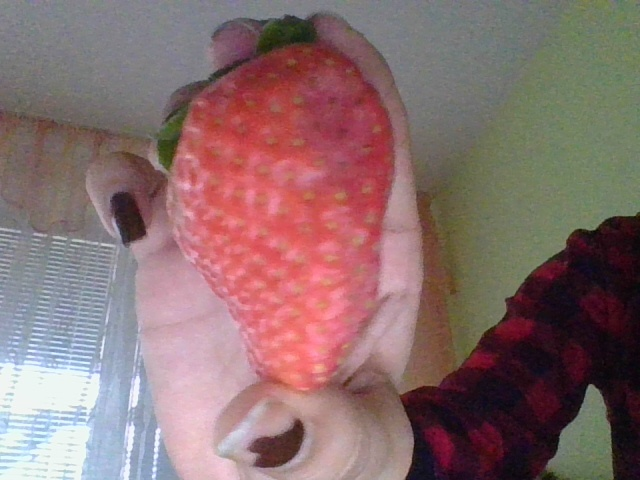ripe: (169, 39, 398, 388)
